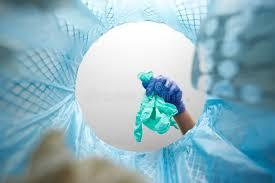Glove: (142, 75, 184, 113)
